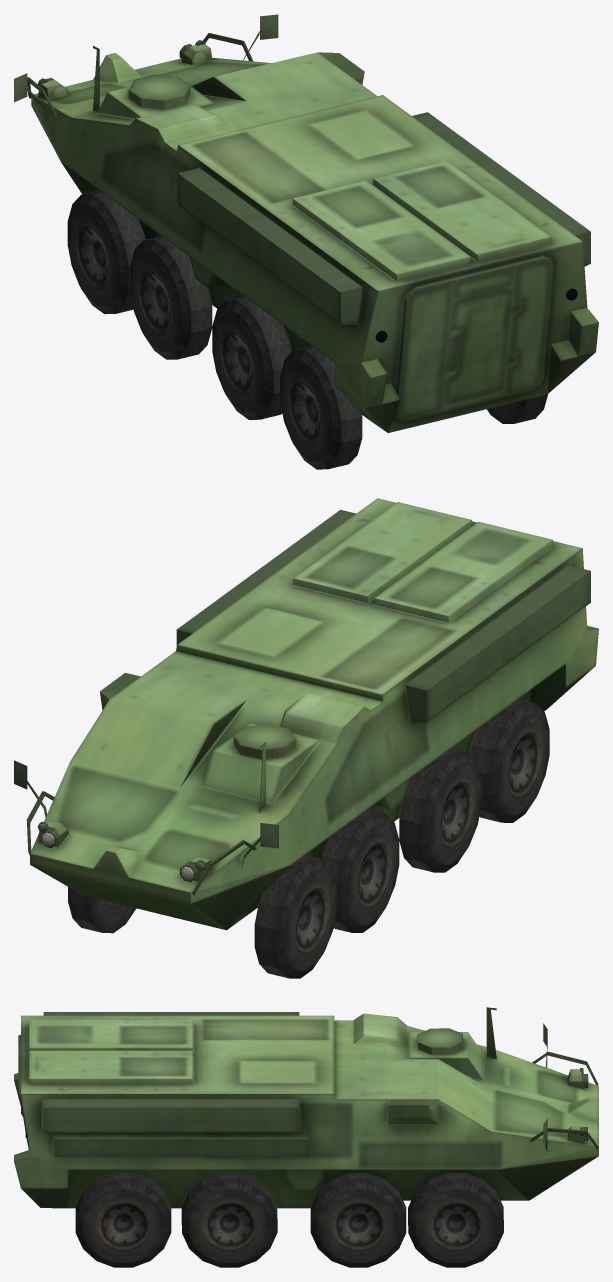
File: stryker.DAE
The picture shows the model from 3 angles, top to bottom: view 1: azimuth 30°, elevation 25°; view 2: azimuth 150°, elevation 25°; view 3: azimuth 270°, elevation 25°; orthographic projection. The views are drawn at different scales.
Parts seen in each view (by area): view 1: hull, wheels_spin_steer002, wheels_spin002, wheels_spin001, wheels_spin_steer001, wheels_spin004; view 2: hull, wheels_spin001, wheels_spin_steer001, wheels_spin002, wheels_spin_steer002, wheels_spin_steer003; view 3: hull, wheels_spin_steer004, wheels_spin004, wheels_spin003, wheels_spin_steer003.
Boxes of the visible parts, left/top/right/bottom form: hull: left=14, top=14, right=598, bottom=432; wheels_spin_steer002: left=130, top=236, right=212, bottom=359; wheels_spin002: left=280, top=346, right=362, bottom=469; wheels_spin001: left=212, top=296, right=291, bottom=419; wheels_spin_steer001: left=67, top=190, right=145, bottom=314; wheels_spin004: left=487, top=394, right=547, bottom=423; hull: left=14, top=498, right=598, bottom=930; wheels_spin001: left=399, top=748, right=481, bottom=872; wheels_spin_steer001: left=254, top=854, right=336, bottom=978; wheels_spin002: left=470, top=699, right=549, bottom=822; wheels_spin_steer002: left=321, top=809, right=399, bottom=932; wheels_spin_steer003: left=68, top=887, right=136, bottom=933; hull: left=14, top=1007, right=598, bottom=1208; wheels_spin_steer004: left=310, top=1172, right=406, bottom=1267; wheels_spin004: left=75, top=1172, right=171, bottom=1267; wheels_spin003: left=181, top=1172, right=277, bottom=1267; wheels_spin_steer003: left=408, top=1172, right=503, bottom=1267.
Size of the model in its own units: 2.86 by 6.99 by 2.49.
Materials: 3 (2 with a texture image).
